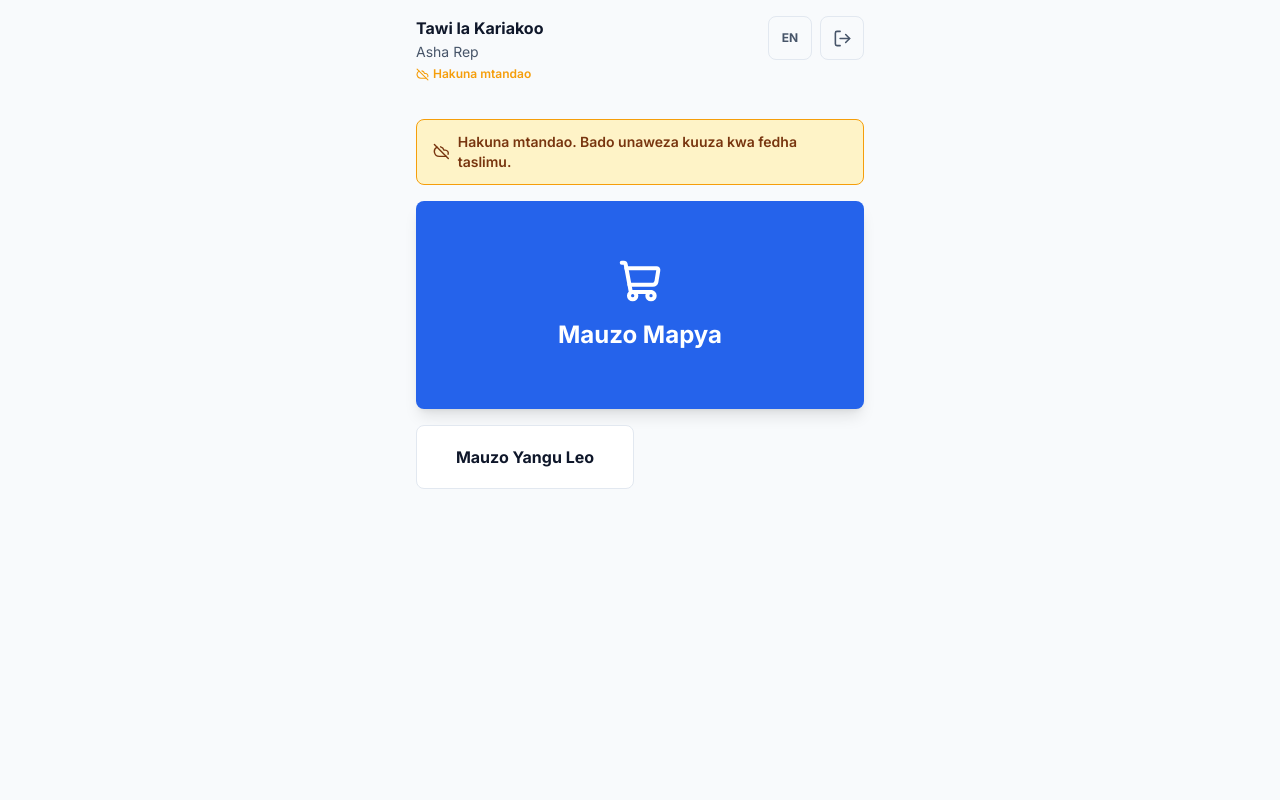
Test: CHAR-5: frozen idempotent payloads › stores the payload verbatim at queue time and replays the exact same fields on sync
Step 1. Click the button "Mauzo Mapya" → (640, 304), box [416,200,864,408]
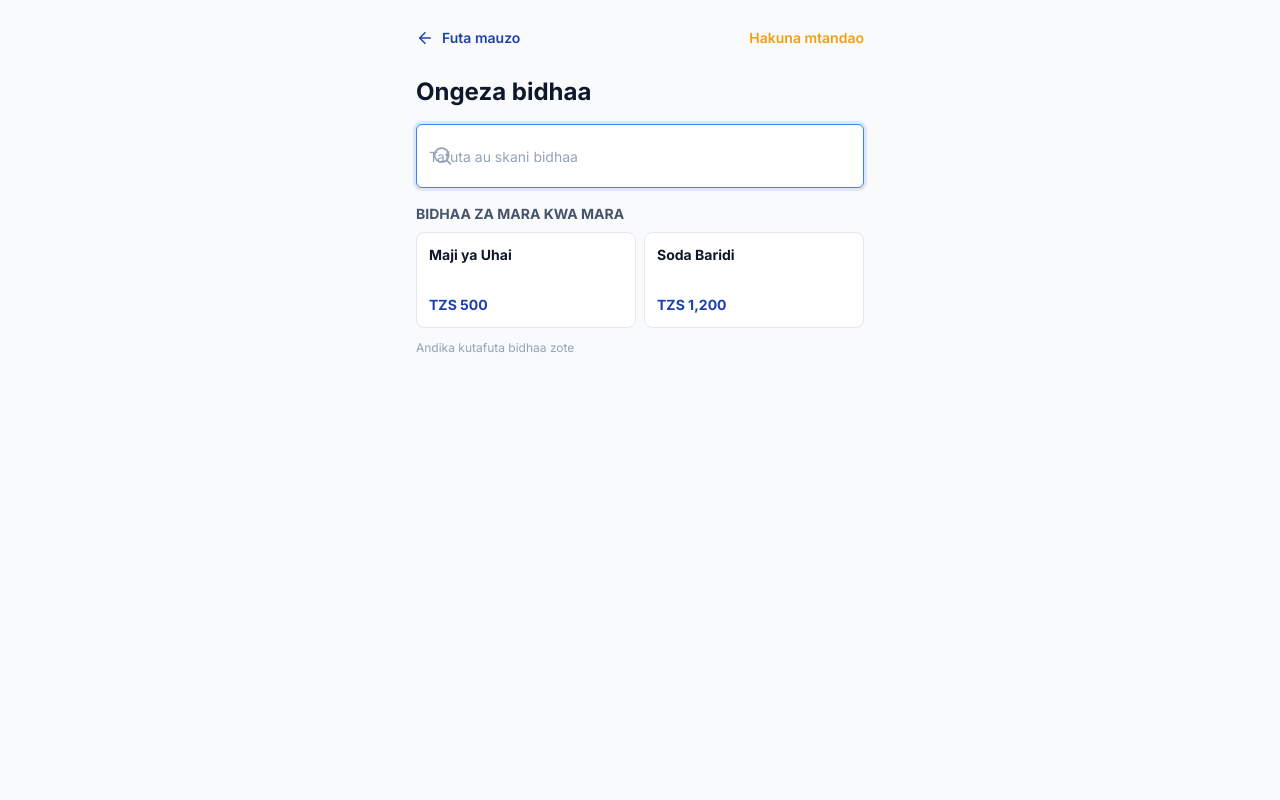
expect the heading "Ongeza bidhaa" is shown: met, box [416,77,591,106]
Step 2. Click the button "Soda Baridi TZS 1,200" → (754, 280), box [644,232,864,328]
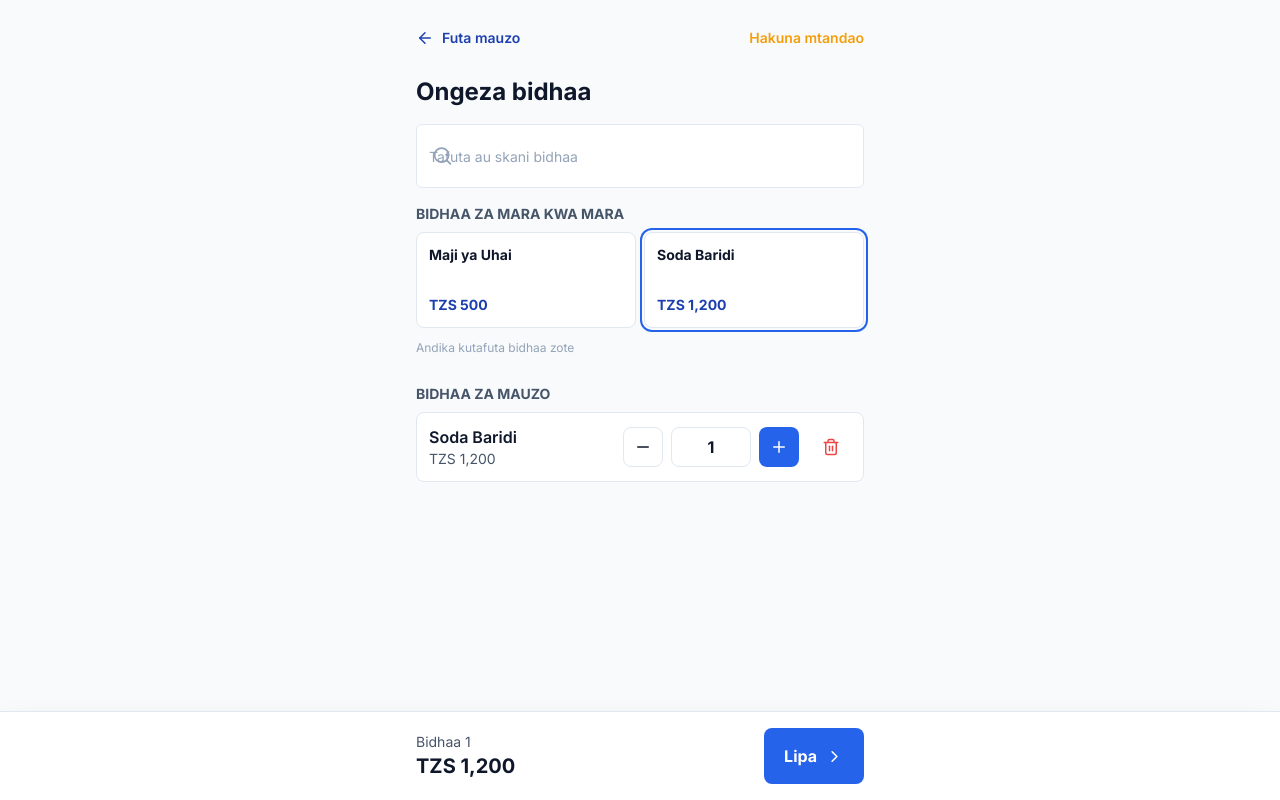
Step 3. Click the button "Soda Baridi TZS 1,200" → (754, 280), box [644,232,864,328]
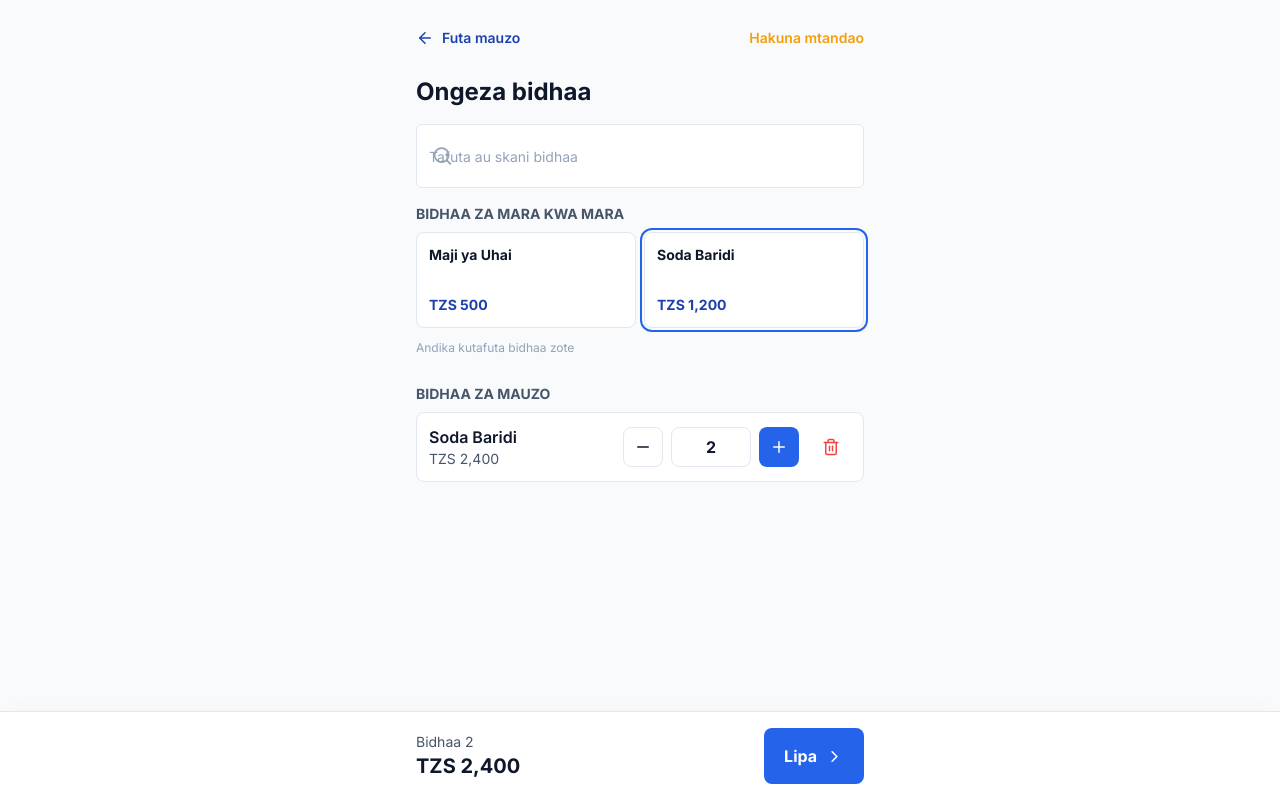
Step 4. Click the button "Maji ya Uhai TZS 500" → (526, 280), box [416,232,636,328]
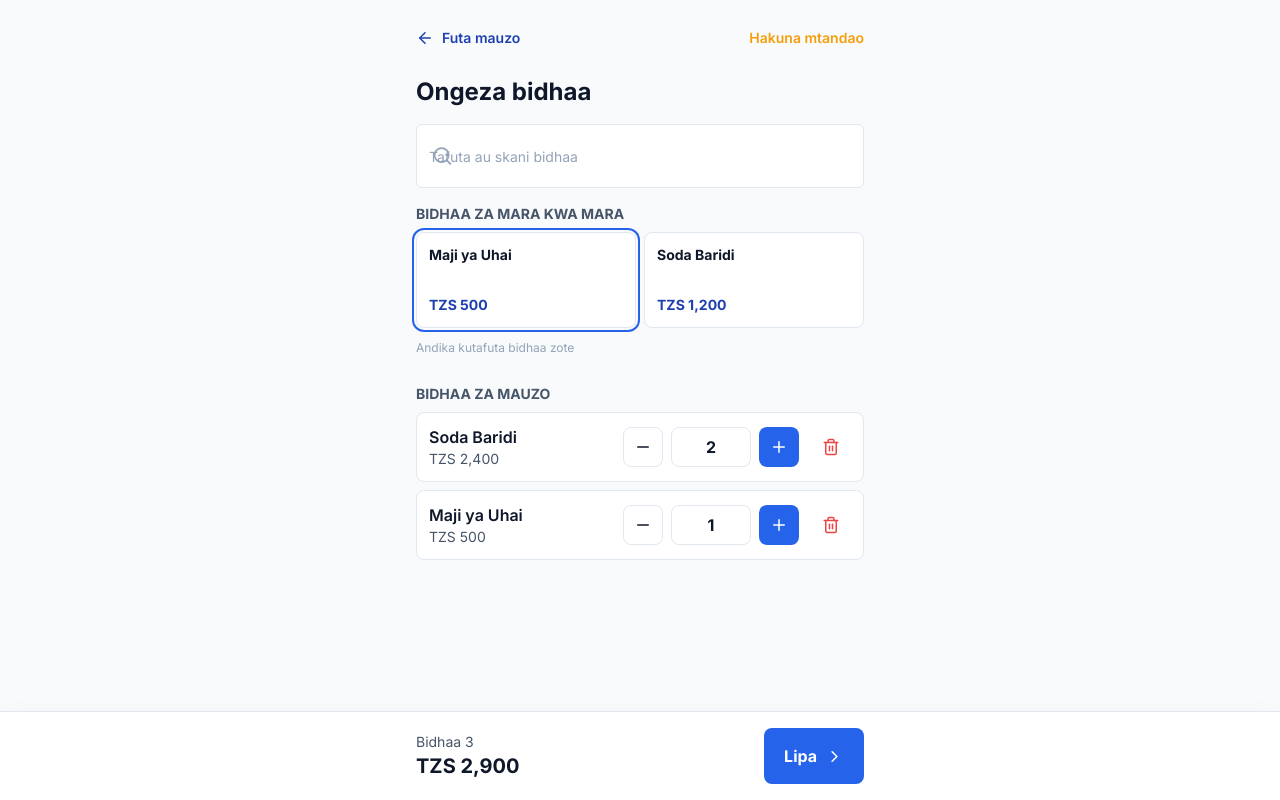
Step 5. Click the button "Lipa" → (814, 756), box [764,728,864,784]
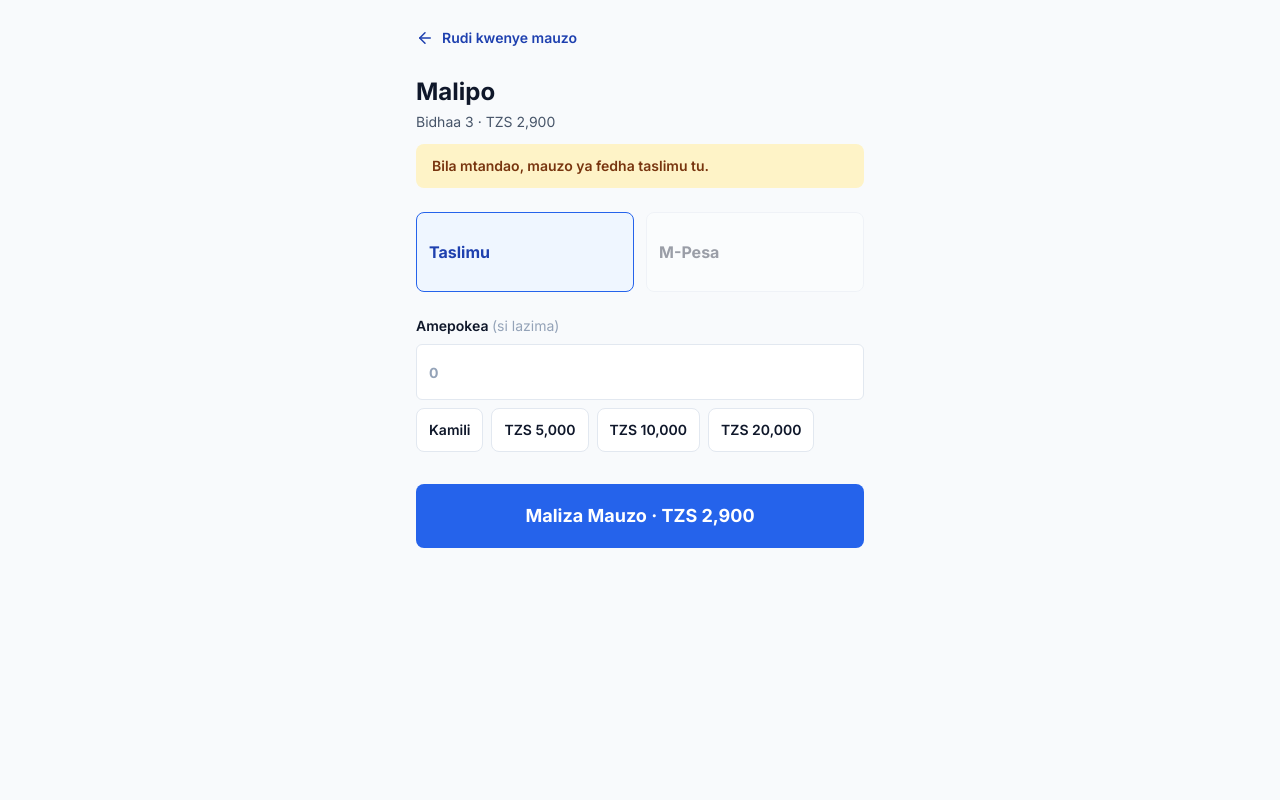
expect the heading "Malipo" is shown: met, box [416,77,495,106]
Step 6. Click the button "Maliza Mauzo · TZS 2,900" → (640, 516), box [416,484,864,548]
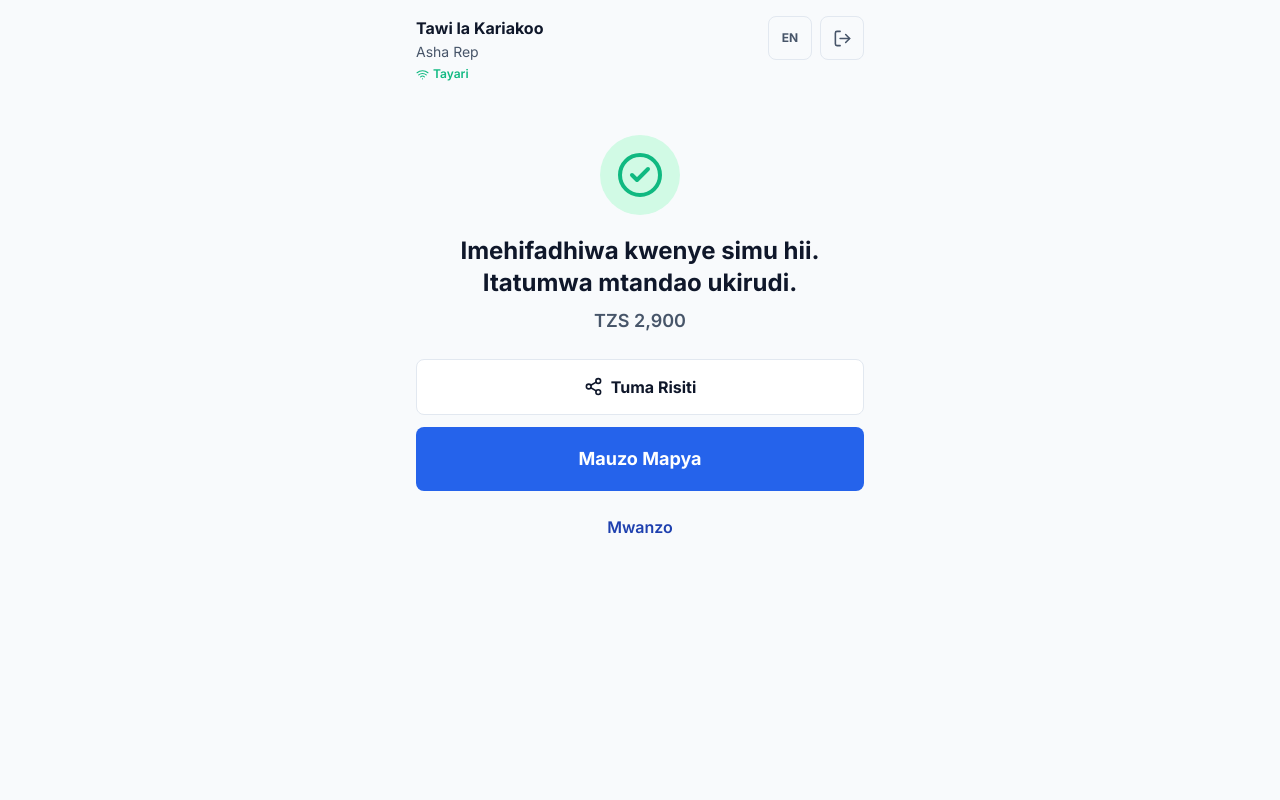
expect the heading "Imehifadhiwa kwenye simu hii. Itatumwa mtandao ukirudi." is shown: met, box [460,236,820,296]
